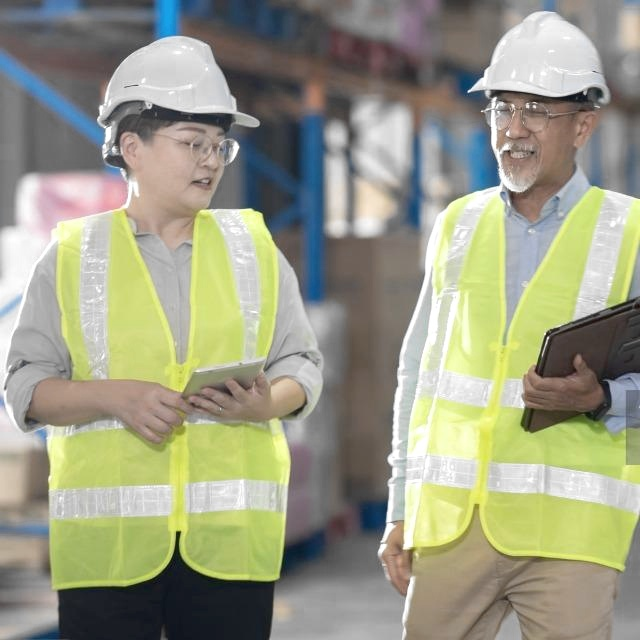Con_Casco: (95, 34, 260, 208), (465, 11, 610, 191)
Con_Chaleco: (42, 212, 295, 570), (416, 185, 640, 535)
